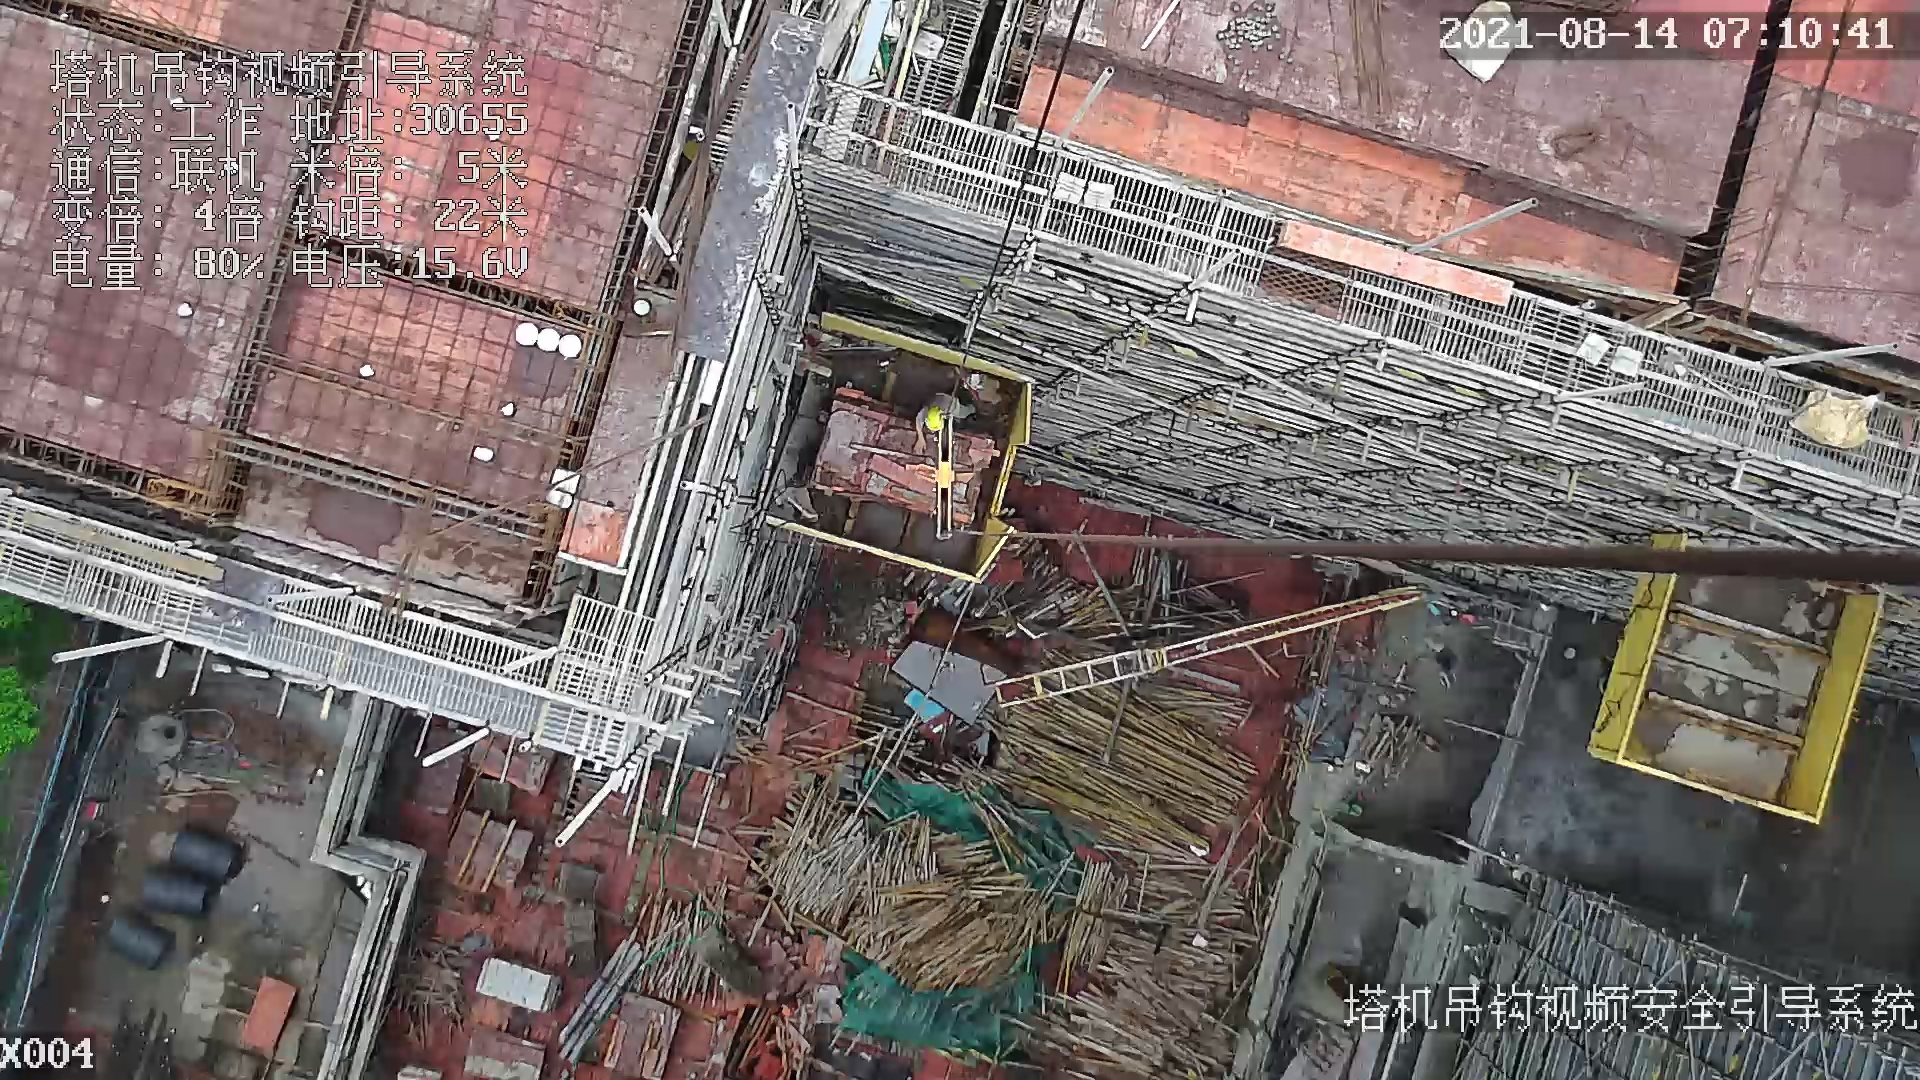hook: (931, 413, 958, 544)
person: (914, 392, 976, 446)
